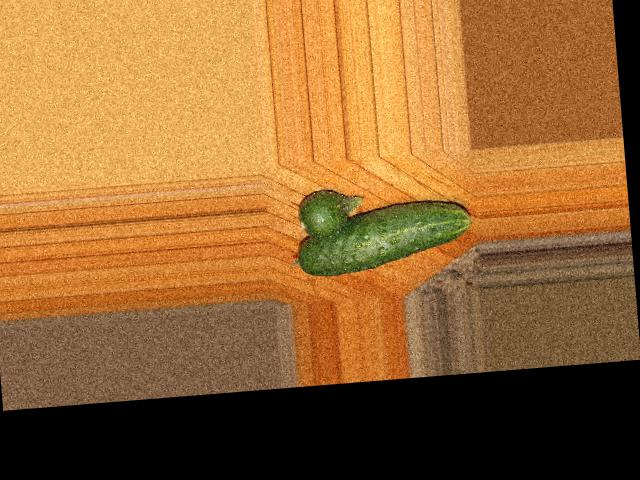cucumber: (293, 197, 475, 278)
